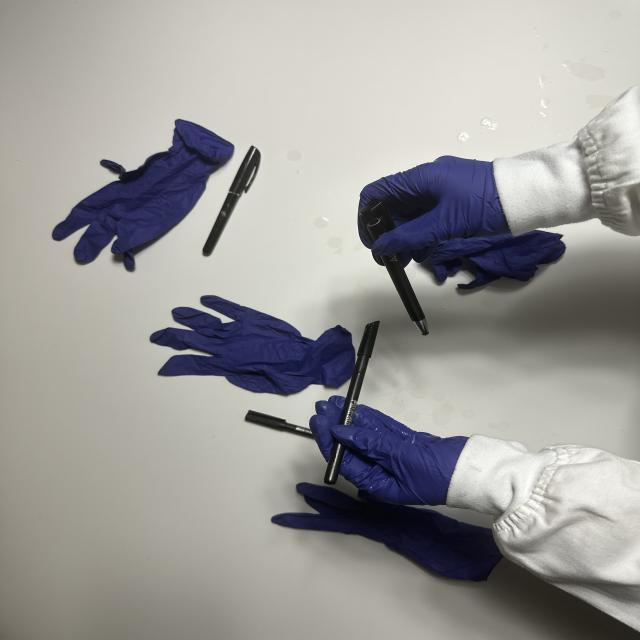gloves_contaminated: (310, 396, 468, 505), (358, 156, 510, 264)
